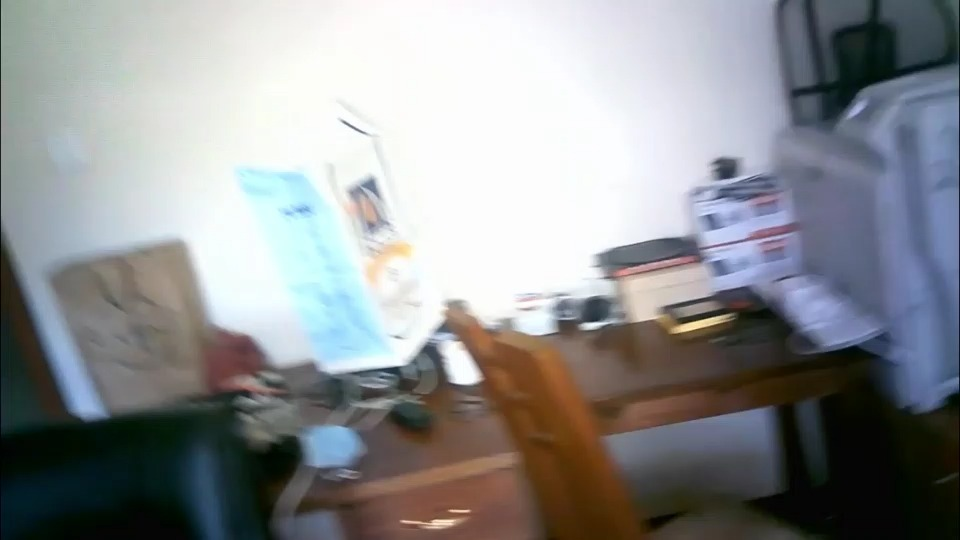wheat_flour_blue_label: (239, 99, 446, 370)
